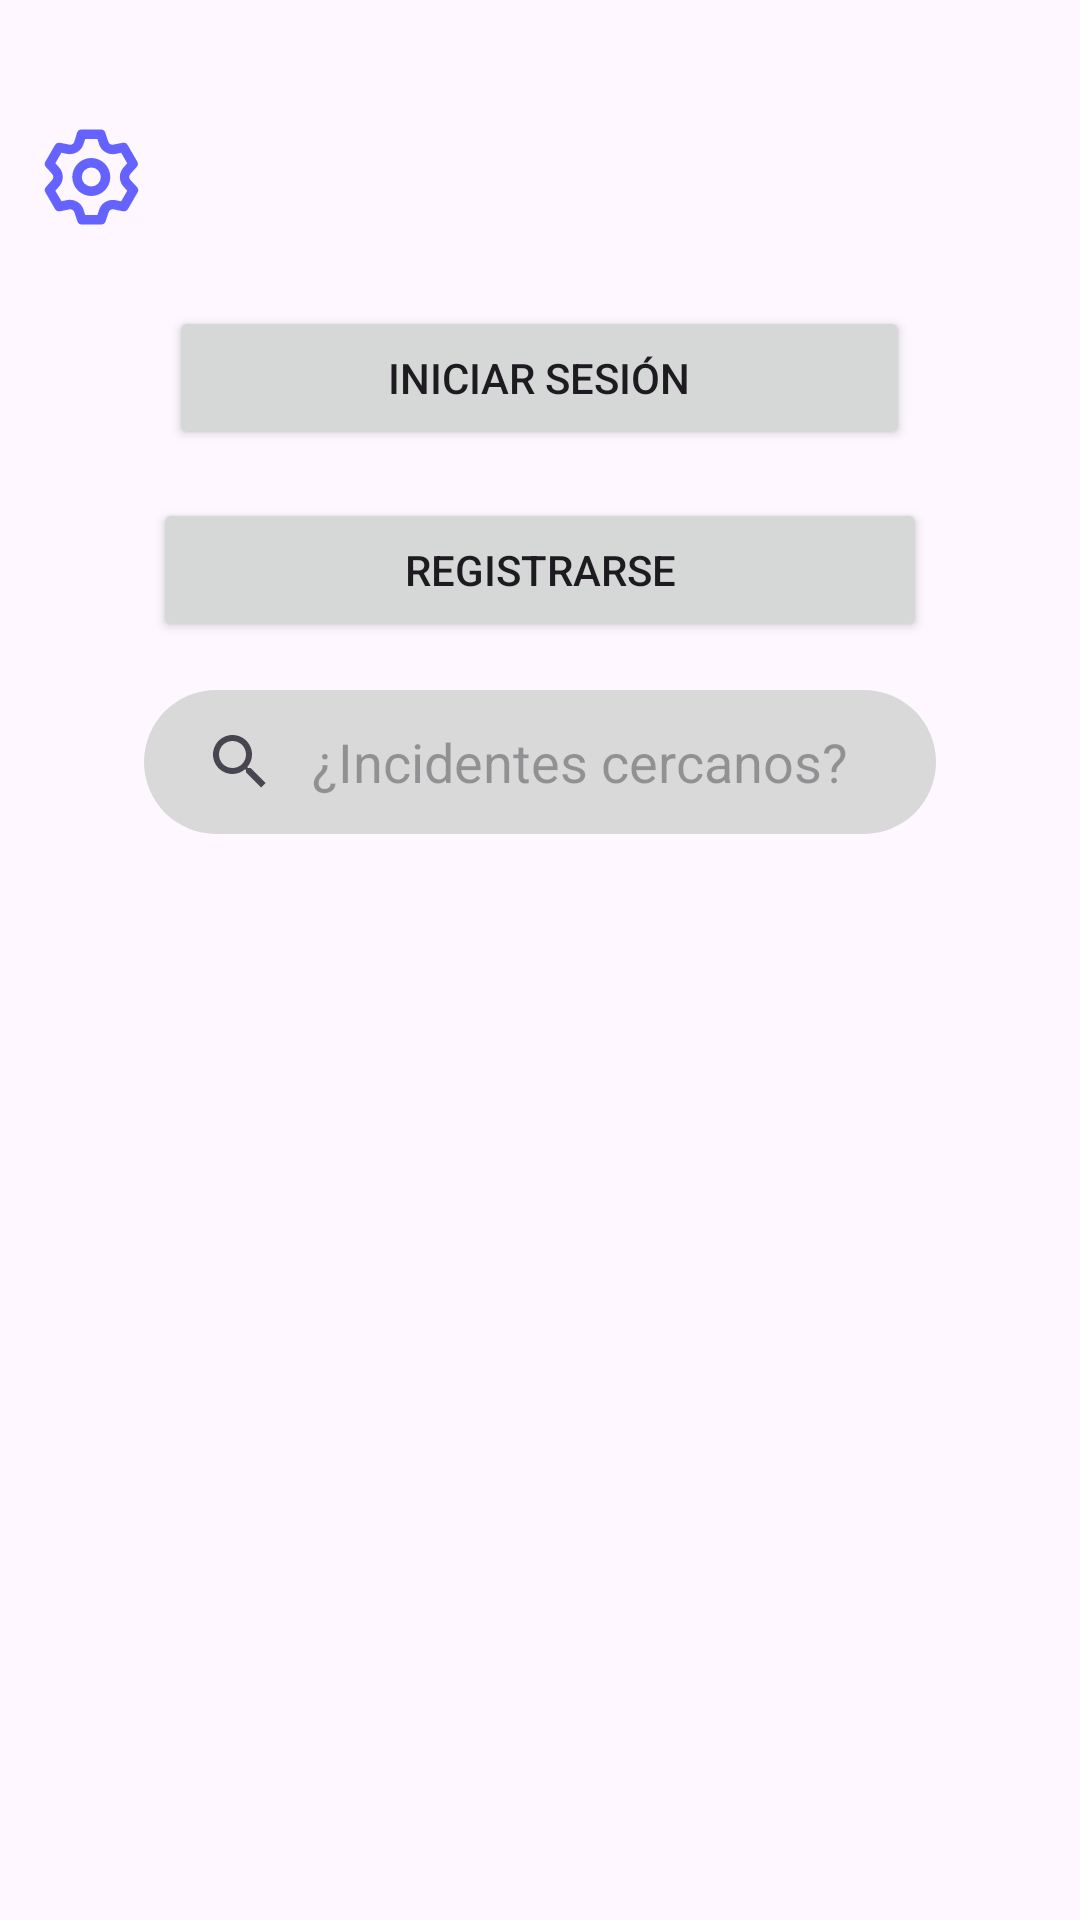

Icons on this 1080px x 1920px Android screen, each with the point to tap as (x=x, y=y):
setting: (x=91, y=177)
